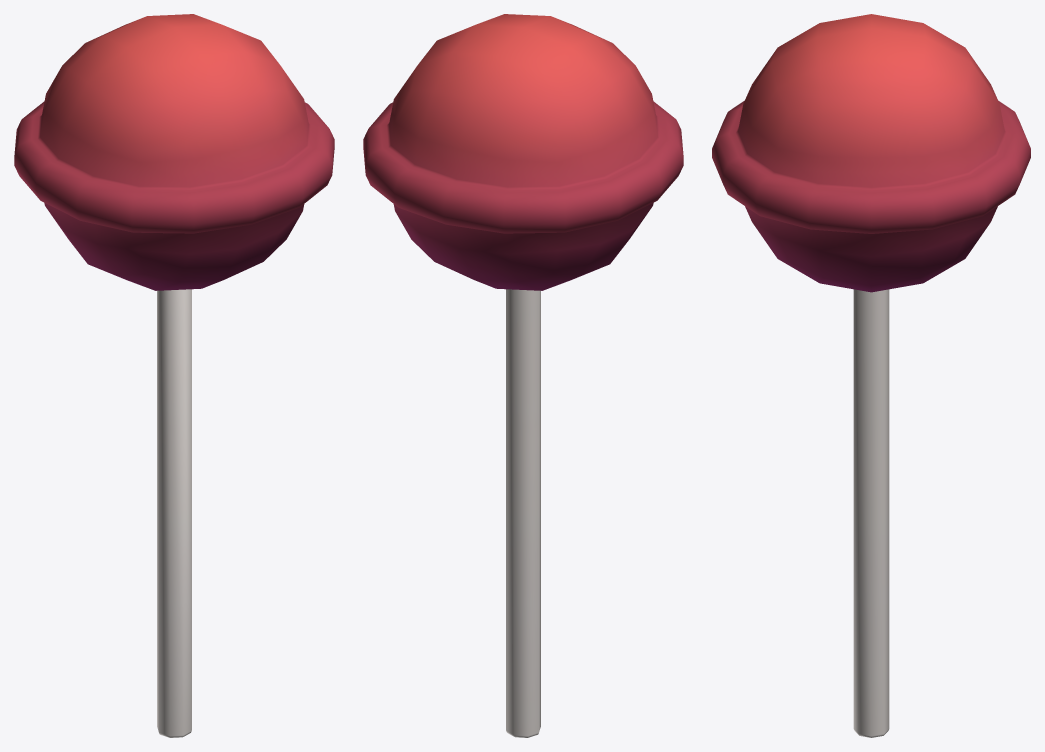
File: candy_glass_1.fbx
The picture shows the model from 3 angles, left to right: view 1: azimuth 30°, elevation 25°; view 2: azimuth 150°, elevation 25°; view 3: azimuth 270°, elevation 25°; orthographic projection.
Parts seen in each view (by area): view 1: c_g_1; view 2: c_g_1; view 3: c_g_1.
Boxes of the visible parts, x1=… form: c_g_1: x1=14, y1=14, x2=334, y2=737; c_g_1: x1=363, y1=14, x2=683, y2=737; c_g_1: x1=712, y1=14, x2=1030, y2=737.
Bounding box in the file's own units: 124 × 301 × 124.
